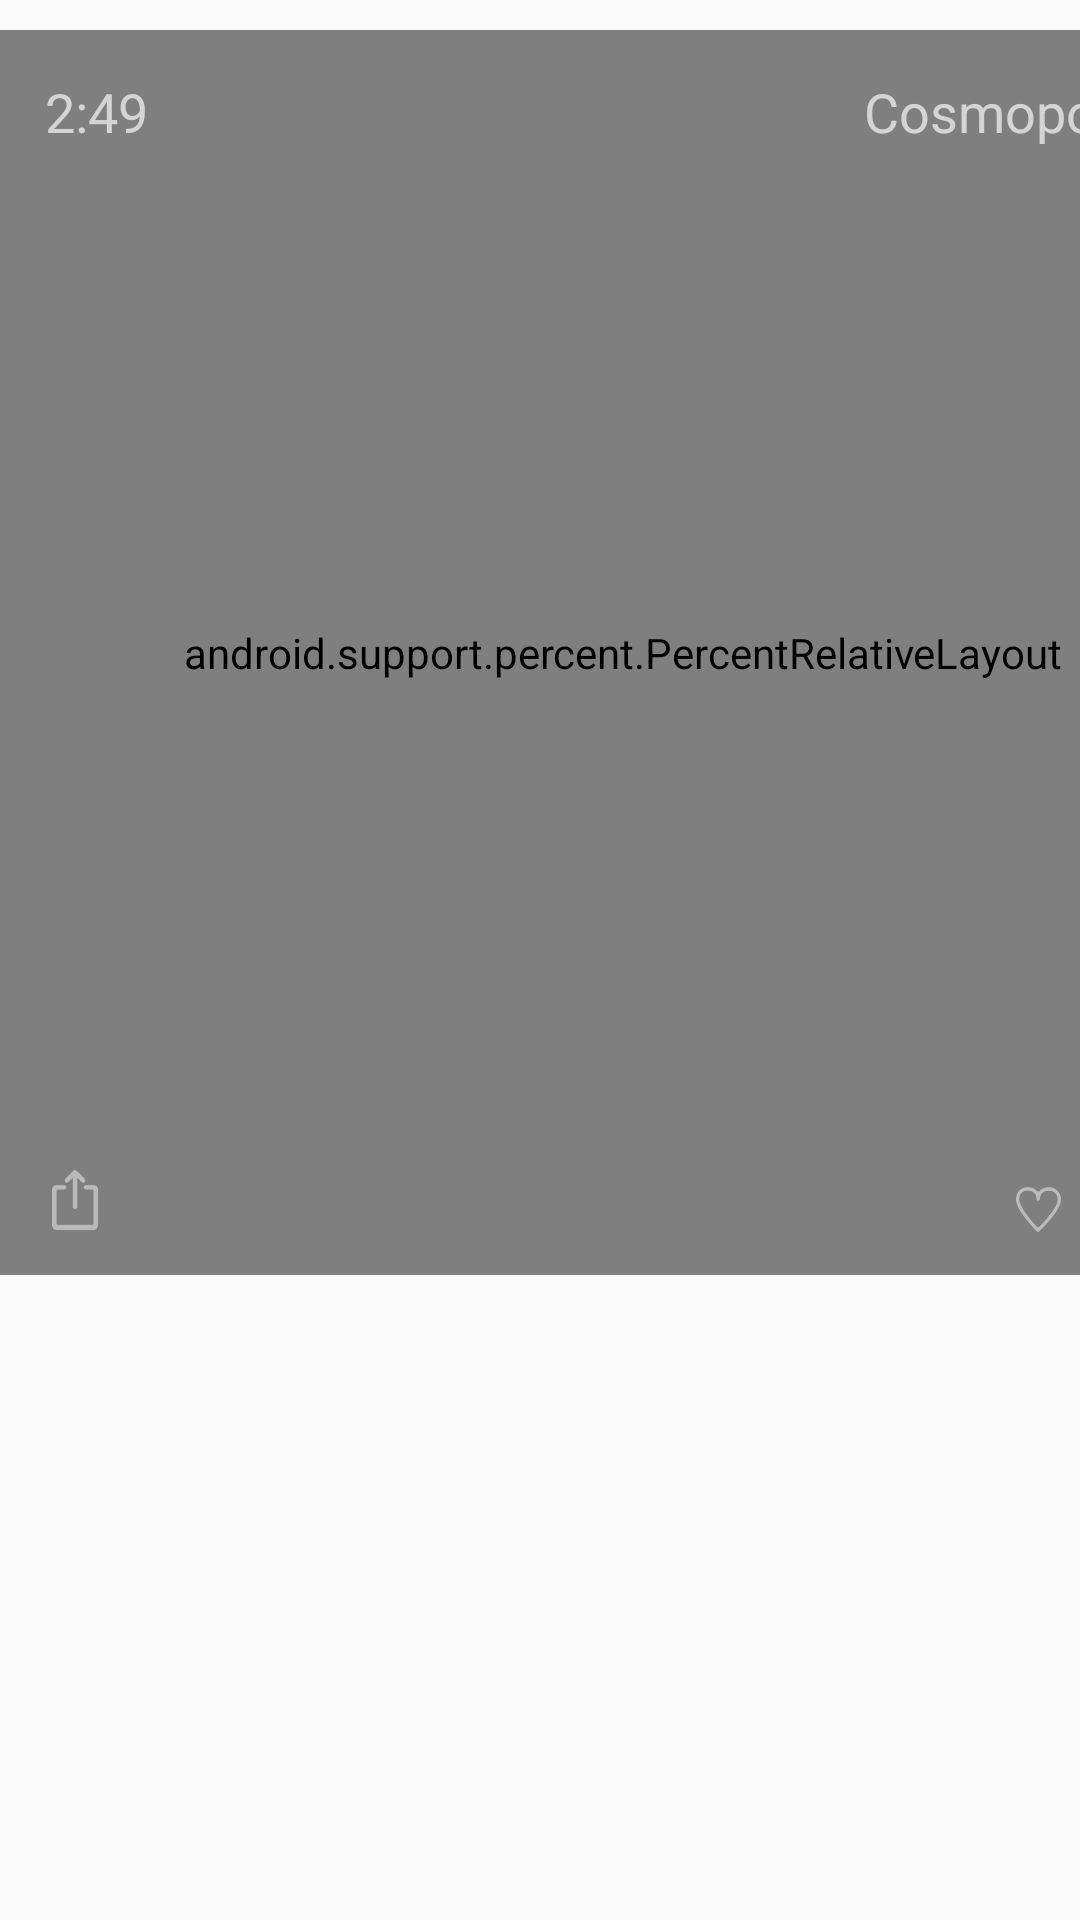

Icons on this 1080 x 1920 Android screen, each with the point to tap as (x,y):
love: (1038,1209)
share: (75,1200)
